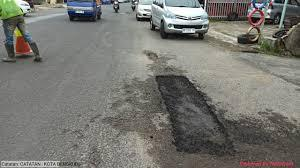Pothole: (149, 74, 235, 158)
